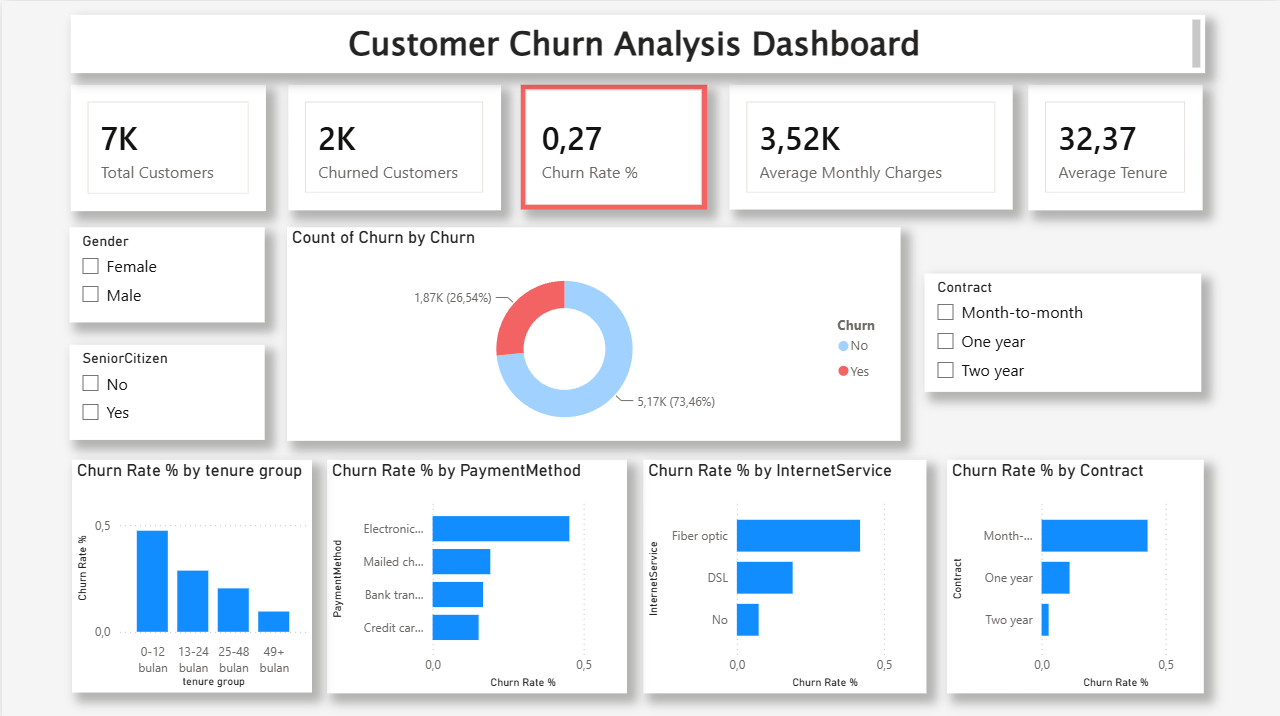

The dashboard page shown, as its layout file describes it:
{"tool":"powerbi","page":{"name":"Page 1","canvas":[1280,720],"ordinal":0},"visuals":[{"type":"cardVisual","fields":{"Data":["WA_Fn-UseC_-Telco-Customer-Churn.Total Customers"]},"box":[69,84.1,195,126.7],"z":0},{"type":"cardVisual","fields":{"Data":["WA_Fn-UseC_-Telco-Customer-Churn.Average Monthly Charges"]},"box":[727.3,84.1,283.3,125],"z":1000},{"type":"cardVisual","fields":{"Data":["WA_Fn-UseC_-Telco-Customer-Churn.Average Tenure"]},"box":[1025.7,84.1,174.3,125.7],"z":2000},{"type":"cardVisual","fields":{"Data":["WA_Fn-UseC_-Telco-Customer-Churn.Churn Rate %"]},"box":[519,84.1,186.7,125],"z":3000},{"type":"cardVisual","fields":{"Data":["WA_Fn-UseC_-Telco-Customer-Churn.Churned Customers"]},"box":[285.7,84.1,212.9,125.7],"z":4000},{"type":"donutChart","fields":{"Category":["WA_Fn-UseC_-Telco-Customer-Churn.Churn"],"Y":["CountNonNull(WA_Fn-UseC_-Telco-Customer-Churn.Churn)"]},"box":[284.5,226,613.3,213.3],"z":5000},{"type":"clusteredBarChart","fields":{"Category":["WA_Fn-UseC_-Telco-Customer-Churn.Contract"],"Y":["WA_Fn-UseC_-Telco-Customer-Churn.Churn Rate %"]},"box":[945.1,458.9,256.7,233.3],"z":6000},{"type":"clusteredBarChart","fields":{"Category":["WA_Fn-UseC_-Telco-Customer-Churn.InternetService"],"Y":["WA_Fn-UseC_-Telco-Customer-Churn.Churn Rate %"]},"box":[641.8,458.9,283.3,233.3],"z":7000},{"type":"clusteredBarChart","fields":{"Category":["WA_Fn-UseC_-Telco-Customer-Churn.PaymentMethod"],"Y":["WA_Fn-UseC_-Telco-Customer-Churn.Churn Rate %"]},"box":[325.1,458.9,300,233.3],"z":8000},{"type":"clusteredColumnChart","fields":{"Y":["WA_Fn-UseC_-Telco-Customer-Churn.Churn Rate %"],"Category":["WA_Fn-UseC_-Telco-Customer-Churn.tenure group"]},"box":[70.1,458.9,240,232.9],"z":9000},{"type":"slicer","fields":{"Values":["WA_Fn-UseC_-Telco-Customer-Churn.gender"]},"box":[67.9,226,195,95],"z":10000},{"type":"slicer","fields":{"Values":["WA_Fn-UseC_-Telco-Customer-Churn.Contract"]},"box":[922.9,272.6,276.7,118.3],"z":11000},{"type":"slicer","fields":{"Values":["WA_Fn-UseC_-Telco-Customer-Churn.SeniorCitizen"]},"box":[67.9,344.3,195,95],"z":12000},{"type":"textbox","box":[68.6,14.3,1134.3,58.6],"z":13000}]}

Visuals, with their boxes in screenshot pixels (x1, y1, x2, y2), scaled from the page's 1280x720 canvas onto the 1280x716 screenshot:
cardVisual - WA_Fn-UseC_-Telco-Customer-Churn.Total Customers: <bbox>69, 84, 264, 210</bbox>
cardVisual - WA_Fn-UseC_-Telco-Customer-Churn.Average Monthly Charges: <bbox>727, 84, 1011, 208</bbox>
cardVisual - WA_Fn-UseC_-Telco-Customer-Churn.Average Tenure: <bbox>1026, 84, 1200, 209</bbox>
cardVisual - WA_Fn-UseC_-Telco-Customer-Churn.Churn Rate %: <bbox>519, 84, 706, 208</bbox>
cardVisual - WA_Fn-UseC_-Telco-Customer-Churn.Churned Customers: <bbox>286, 84, 499, 209</bbox>
donutChart - WA_Fn-UseC_-Telco-Customer-Churn.Churn x CountNonNull(WA_Fn-UseC_-Telco-Customer-Churn.Churn): <bbox>284, 225, 898, 437</bbox>
clusteredBarChart - WA_Fn-UseC_-Telco-Customer-Churn.Contract x WA_Fn-UseC_-Telco-Customer-Churn.Churn Rate %: <bbox>945, 456, 1202, 688</bbox>
clusteredBarChart - WA_Fn-UseC_-Telco-Customer-Churn.InternetService x WA_Fn-UseC_-Telco-Customer-Churn.Churn Rate %: <bbox>642, 456, 925, 688</bbox>
clusteredBarChart - WA_Fn-UseC_-Telco-Customer-Churn.PaymentMethod x WA_Fn-UseC_-Telco-Customer-Churn.Churn Rate %: <bbox>325, 456, 625, 688</bbox>
clusteredColumnChart - WA_Fn-UseC_-Telco-Customer-Churn.Churn Rate % x WA_Fn-UseC_-Telco-Customer-Churn.tenure group: <bbox>70, 456, 310, 688</bbox>
slicer - WA_Fn-UseC_-Telco-Customer-Churn.gender: <bbox>68, 225, 263, 319</bbox>
slicer - WA_Fn-UseC_-Telco-Customer-Churn.Contract: <bbox>923, 271, 1200, 389</bbox>
slicer - WA_Fn-UseC_-Telco-Customer-Churn.SeniorCitizen: <bbox>68, 342, 263, 437</bbox>
textbox: <bbox>69, 14, 1203, 72</bbox>
